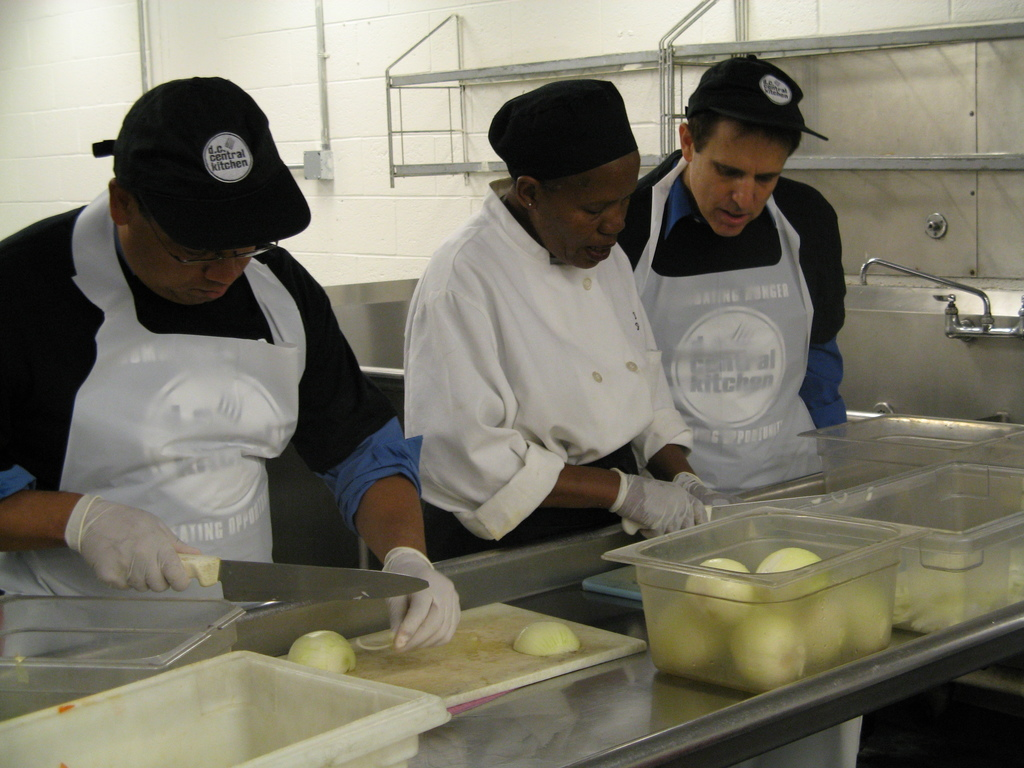Person: (0, 76, 461, 653), (405, 79, 746, 555), (633, 54, 846, 491)
